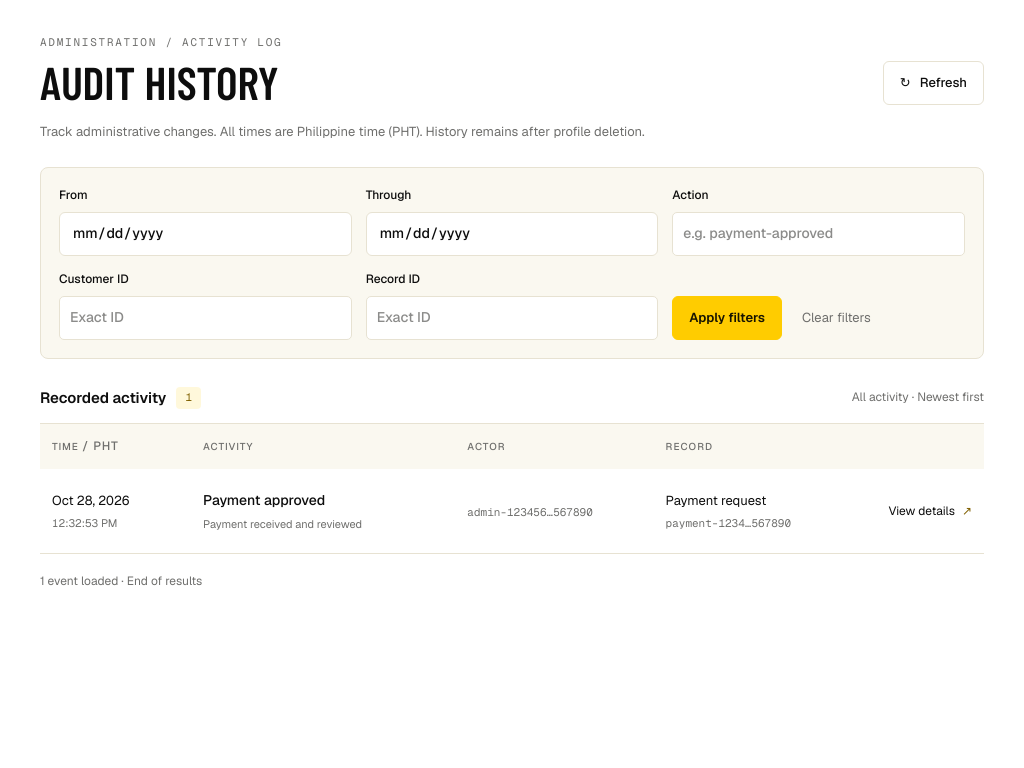
Test case: retains results on a failed filter request and retries that exact request
The width and height of the screenshot is (1024, 768).
Type "customer-two" into the field labelled "Customer ID" at x=205, y=318, box top-left (59, 296), bottom-right (352, 340)
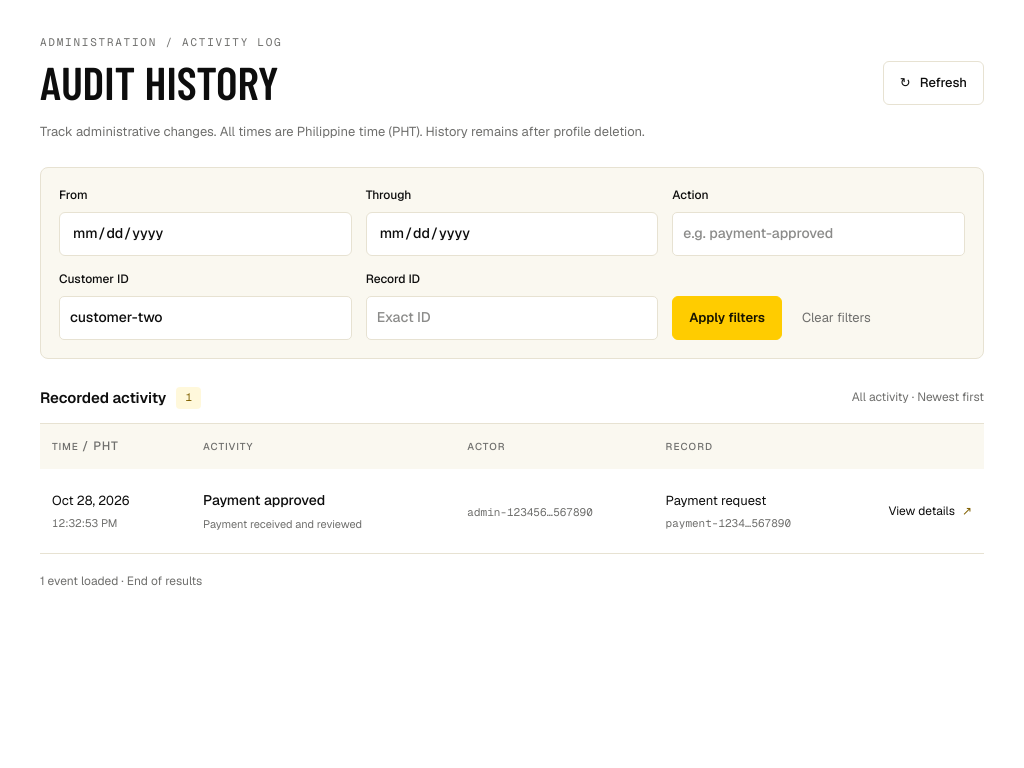
Click the button "Apply filters" at x=727, y=318, box top-left (672, 296), bottom-right (782, 340)
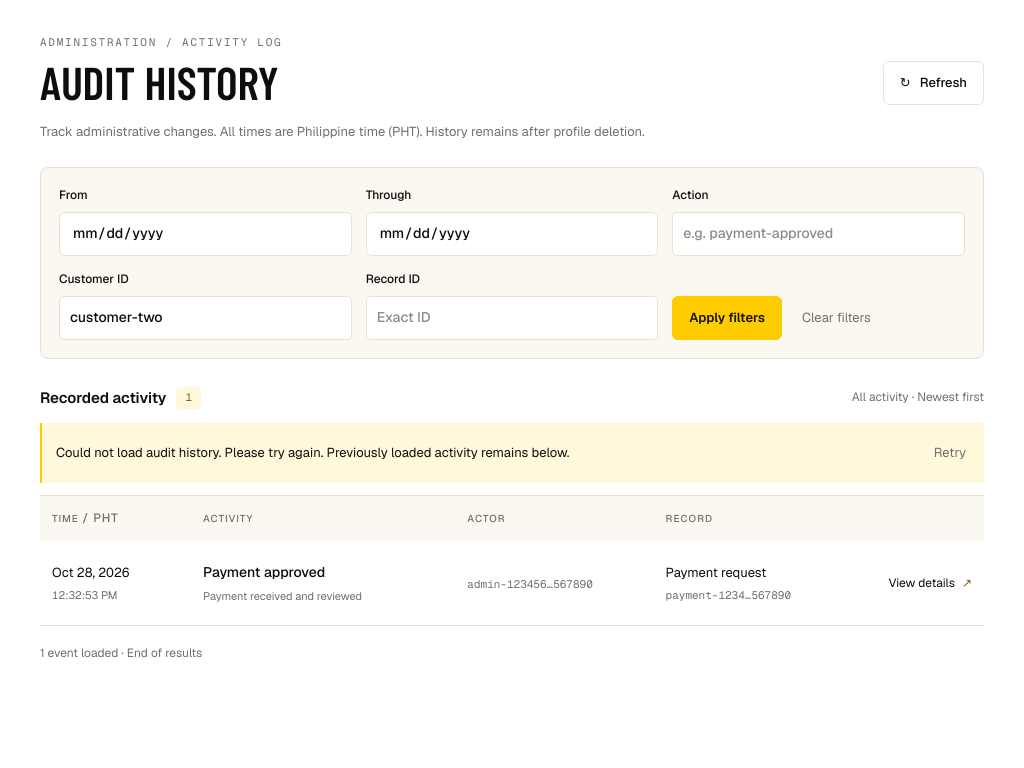
Expected: the button with aria-label "View details:" is shown, top-left (888, 561), bottom-right (972, 605)
Now the 1st message shows "Previously loaded activity remains below", box top-left (323, 444), bottom-right (569, 461)
Click the button "Retry" at x=950, y=453, box top-left (930, 431), bottom-right (970, 475)
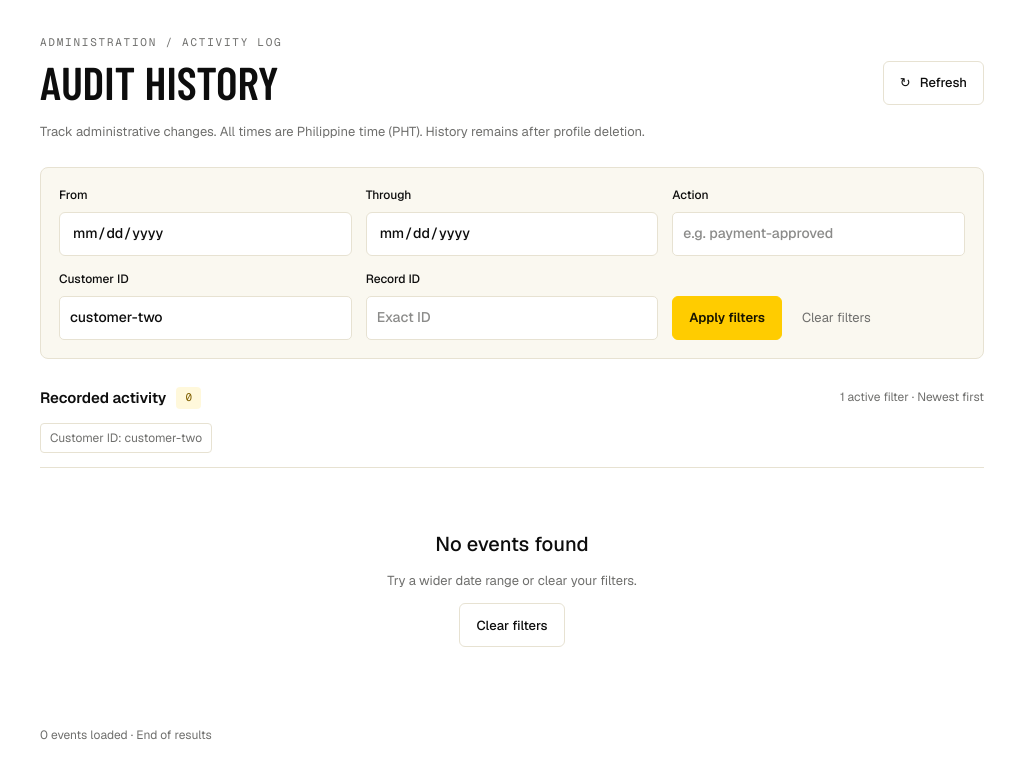
Now the heading "No events found" is shown, box top-left (435, 529), bottom-right (589, 559)
